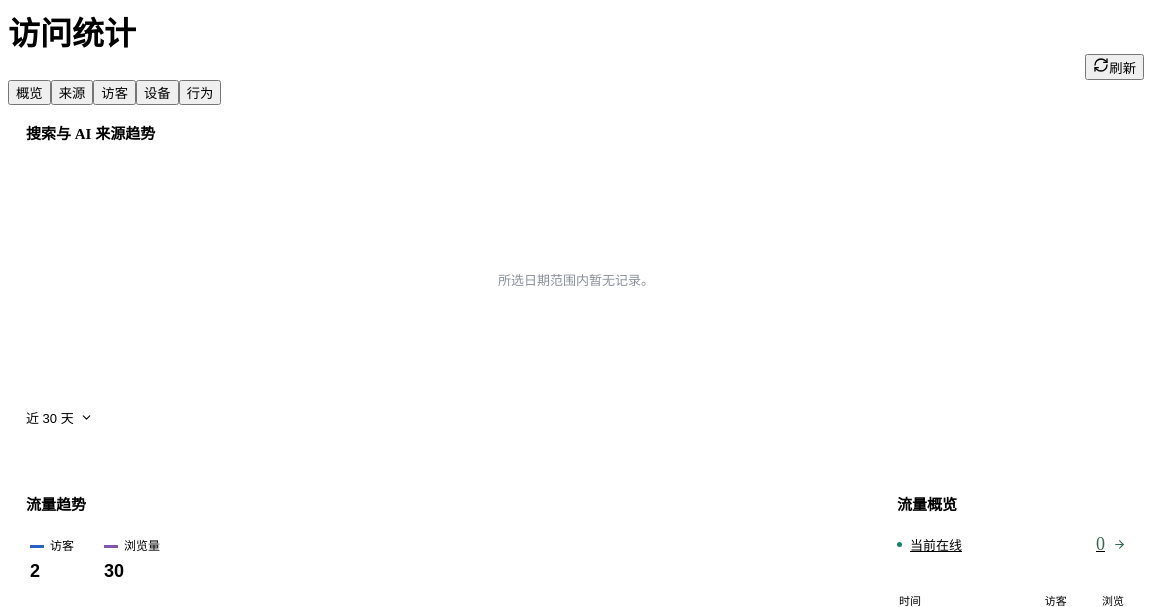
Test: switches the visitor ordering without duplicating tables or querying again
Click the tab "访客" at (115, 92), box x1=93 y1=80 x2=136 y2=105
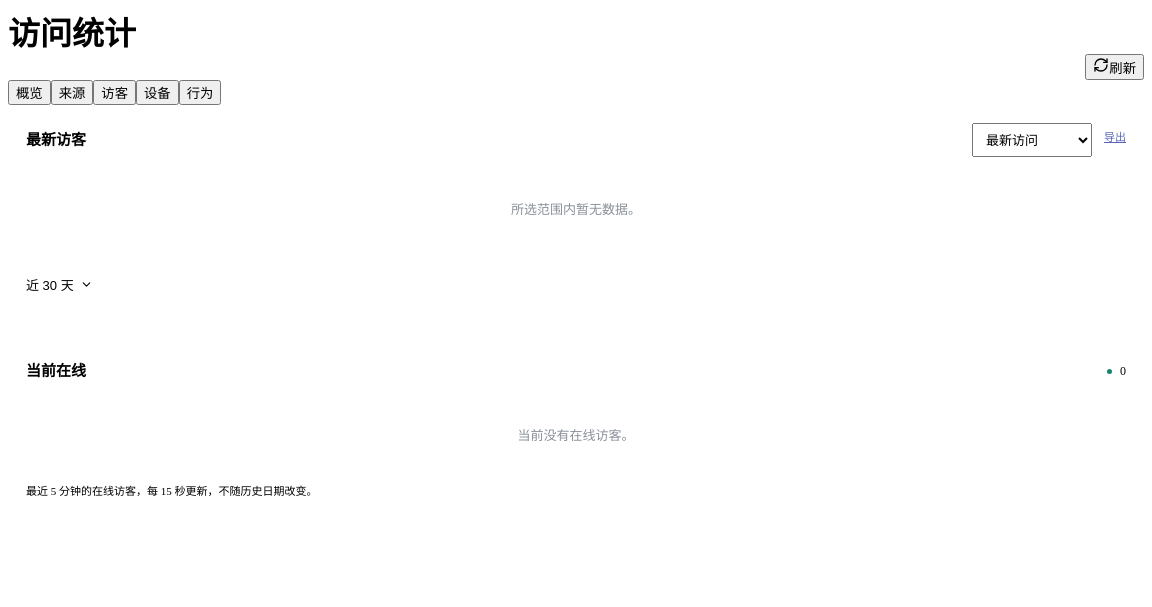
Check: the text "最活跃访客" is not shown
Check: the text "最新访客" is shown, box x1=26 y1=129 x2=86 y2=151
Select "最活跃" in the dropdown named "访客排序" at (1032, 140), box x1=972 y1=123 x2=1092 y2=157
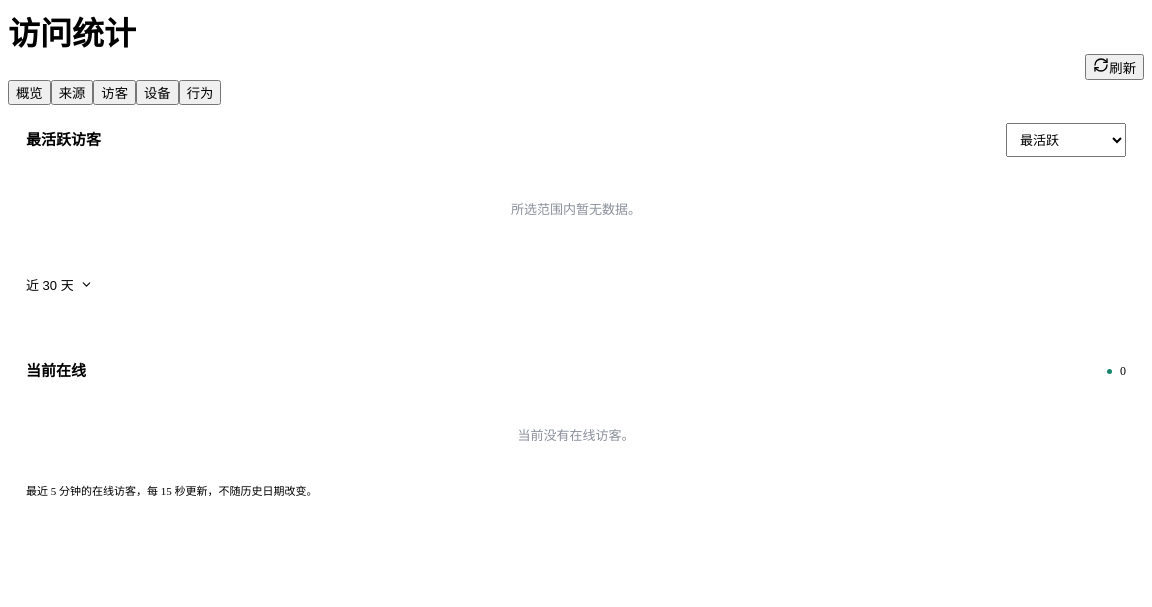
Check: the text "当前在线" is shown, box x1=26 y1=360 x2=86 y2=382
Check: the text "最活跃访客" is shown, box x1=26 y1=129 x2=101 y2=151
Check: the text "最新访客" is gone
